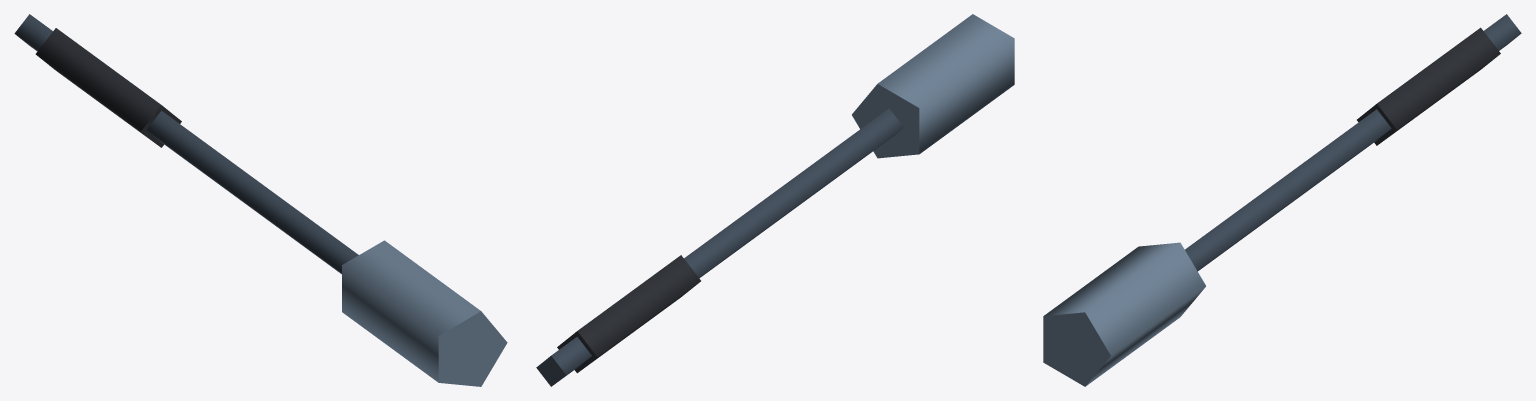
The picture shows the model from 3 angles, left to right: view 1: azimuth 30°, elevation 25°; view 2: azimuth 150°, elevation 25°; view 3: azimuth 330°, elevation 25°; orthographic projection.
Parts seen in each view (by area): view 1: dweller_weapon_club; view 2: dweller_weapon_club; view 3: dweller_weapon_club.
Boxes of the visible parts, x1=… form: dweller_weapon_club: x1=14, y1=14, x2=507, y2=386; dweller_weapon_club: x1=536, y1=14, x2=1014, y2=386; dweller_weapon_club: x1=1043, y1=14, x2=1521, y2=386.
Bounding box in the file's own units: 0.0905 × 0.0951 × 1.
